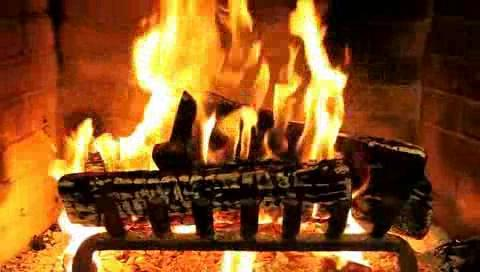fire: (128, 6, 352, 164)
